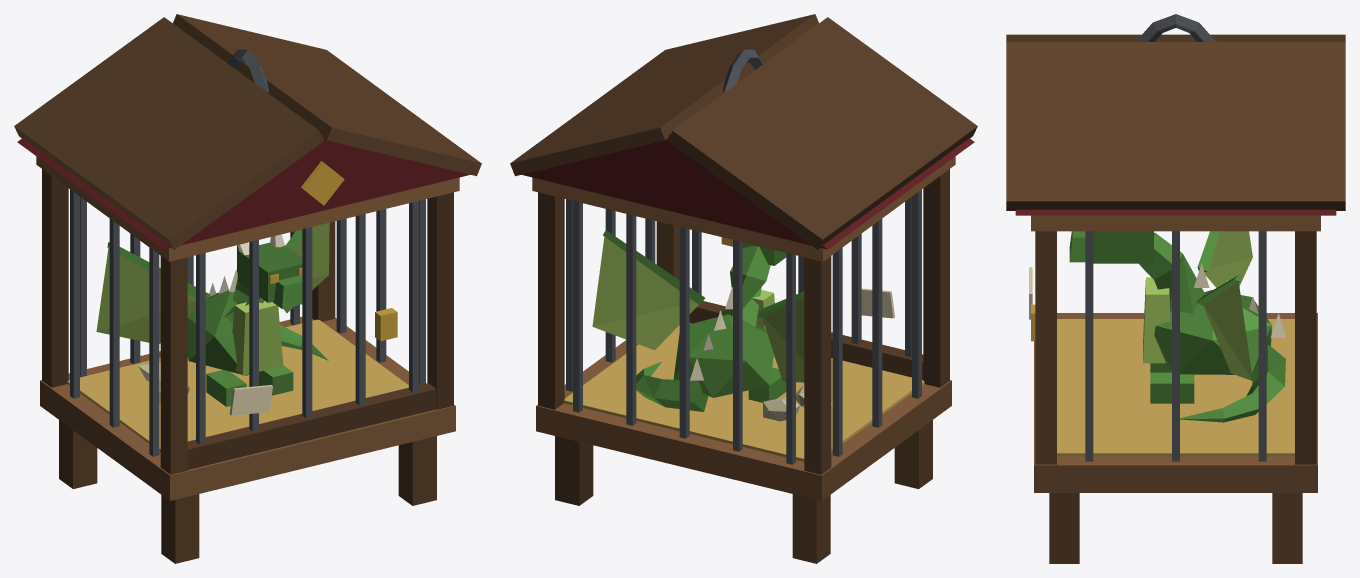
The model's file is cage_dragon.glb.
3 views of the same model, side by side, from view 1: azimuth 30°, elevation 25°; view 2: azimuth 150°, elevation 25°; view 3: azimuth 270°, elevation 25° (orthographic). The views are drawn at different scales.
Parts seen in each view (by area): view 1: cage_dragon; view 2: cage_dragon; view 3: cage_dragon.
Part boxes in pixels (box(x1,y1,x2,y2)): cage_dragon: box(14, 14, 481, 563); cage_dragon: box(510, 14, 977, 563); cage_dragon: box(1006, 14, 1345, 563).
Size of the model in its own units: 1.3 by 1.74 by 1.11.
